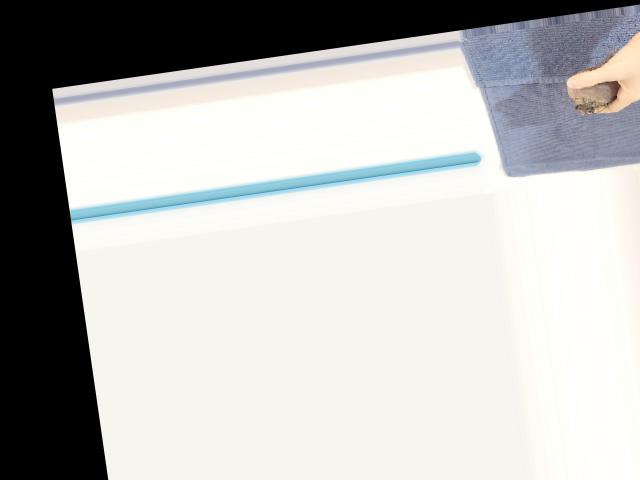beet: (561, 47, 621, 116)
